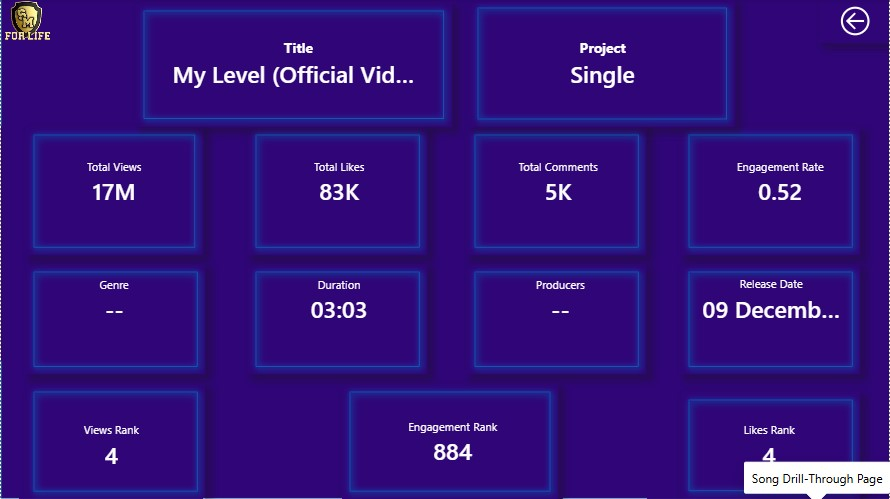

The page's visual inventory and layout, read from the dashboard file:
{"tool":"powerbi","page":{"name":"Song Drill-Through Page","canvas":[1280,720],"ordinal":4},"visuals":[{"type":"shape","title":"Background","box":[0,0,1280,719.5],"z":0},{"type":"cardVisual","fields":{"Data":["Min(songs_fact_table.title)"]},"box":[216,0,423.4,182.9],"z":0,"group":"g1"},{"type":"group","id":"g1","title":"Cards","box":[0,0,1280.2,719.5],"z":1000},{"type":"cardVisual","fields":{"Data":["Min(project_dim_table.title)"]},"box":[639.4,0,452.2,182.9],"z":1000,"group":"g1"},{"type":"image","box":[0,0,73.4,61.9],"z":2000},{"type":"actionButton","box":[1178.8,0,101.2,62.5],"z":2000,"group":"g1"},{"type":"shape","box":[194.8,5.1,454.6,177.7],"z":3000},{"type":"cardVisual","fields":{"Data":["platform_metrics_dim_table.Total Views"]},"box":[0,182.9,324,161.3],"z":3000,"group":"g1"},{"type":"shape","box":[675,1.7,381.1,182.9],"z":4000},{"type":"cardVisual","fields":{"Data":["platform_metrics_dim_table.Total Likes"]},"box":[324,182.9,324,161.3],"z":4000,"group":"g1"},{"type":"cardVisual","fields":{"Data":["platform_metrics_dim_table.Total Comments"]},"box":[639.4,182.9,324,161.3],"z":5000,"group":"g1"},{"type":"shape","box":[35.9,184.6,254.6,184.6],"z":5000},{"type":"cardVisual","fields":{"Data":["platform_metrics_dim_table.Engagement Rate"]},"box":[963.4,182.9,316.8,161.3],"z":6000,"group":"g1"},{"type":"shape","box":[355.5,184.6,258.1,184.6],"z":6000},{"type":"shape","box":[671.6,184.6,258.1,184.6],"z":7000},{"type":"cardVisual","fields":{"Data":["_Rank Measure.Views Rank"]},"box":[25.6,565.7,264.9,153.8],"z":7000,"group":"g1"},{"type":"shape","box":[979.2,184.6,258.1,184.6],"z":8000},{"type":"cardVisual","fields":{"Data":["_Rank Measure.Engagement Rank"]},"box":[490.5,553.7,317.9,165.8],"z":8000,"group":"g1"},{"type":"shape","box":[35.9,381.1,258.1,158.9],"z":9000},{"type":"cardVisual","fields":{"Data":["_Rank Measure.Likes Rank"]},"box":[929.7,565.7,350.3,153.8],"z":9000,"group":"g1"},{"type":"cardVisual","fields":{"Data":["Min(songs_fact_table.genre)"]},"box":[0,344.2,324,177.1],"z":10000,"group":"g1"},{"type":"shape","box":[355.5,381.1,258.1,158.9],"z":10000},{"type":"cardVisual","fields":{"Data":["Min(songs_fact_table.duration)"]},"box":[324,344.2,324,177.1],"z":11000,"group":"g1"},{"type":"shape","box":[671.6,381.1,258.1,158.9],"z":11000},{"type":"cardVisual","fields":{"Data":["Min(songs_fact_table.producers)"]},"box":[646.6,344.2,316.8,177.1],"z":12000,"group":"g1"},{"type":"shape","box":[979.2,381.1,258.1,158.9],"z":12000},{"type":"cardVisual","fields":{"Data":["Min(songs_fact_table.release_date)"]},"box":[979.2,355.5,258.1,152.1],"z":13000,"group":"g1"},{"type":"shape","box":[35.9,553.7,258.1,165.8],"z":13000},{"type":"shape","box":[490.5,553.7,311,165.8],"z":14000},{"type":"shape","box":[979.2,565.7,258.1,153.8],"z":15000}]}

Visuals, with their boxes in screenshot pixels (x1, y1, x2, y2), scaled from the page's 1280x720 canvas onto the 890x499 screenshot:
"Background" shape: Rect(0, 0, 889, 498)
cardVisual - Min(songs_fact_table.title): Rect(150, 0, 445, 127)
"Cards" group: Rect(0, 0, 889, 498)
cardVisual - Min(project_dim_table.title): Rect(445, 0, 759, 127)
image: Rect(0, 0, 51, 43)
actionButton: Rect(820, 0, 889, 43)
shape: Rect(135, 4, 452, 127)
cardVisual - platform_metrics_dim_table.Total Views: Rect(0, 127, 225, 239)
shape: Rect(469, 1, 734, 128)
cardVisual - platform_metrics_dim_table.Total Likes: Rect(225, 127, 451, 239)
cardVisual - platform_metrics_dim_table.Total Comments: Rect(445, 127, 670, 239)
shape: Rect(25, 128, 202, 256)
cardVisual - platform_metrics_dim_table.Engagement Rate: Rect(670, 127, 889, 239)
shape: Rect(247, 128, 427, 256)
shape: Rect(467, 128, 646, 256)
cardVisual - _Rank Measure.Views Rank: Rect(18, 392, 202, 498)
shape: Rect(681, 128, 860, 256)
cardVisual - _Rank Measure.Engagement Rank: Rect(341, 384, 562, 498)
shape: Rect(25, 264, 204, 374)
cardVisual - _Rank Measure.Likes Rank: Rect(646, 392, 889, 498)
cardVisual - Min(songs_fact_table.genre): Rect(0, 239, 225, 361)
shape: Rect(247, 264, 427, 374)
cardVisual - Min(songs_fact_table.duration): Rect(225, 239, 451, 361)
shape: Rect(467, 264, 646, 374)
cardVisual - Min(songs_fact_table.producers): Rect(450, 239, 670, 361)
shape: Rect(681, 264, 860, 374)
cardVisual - Min(songs_fact_table.release_date): Rect(681, 246, 860, 352)
shape: Rect(25, 384, 204, 498)
shape: Rect(341, 384, 557, 498)
shape: Rect(681, 392, 860, 498)
